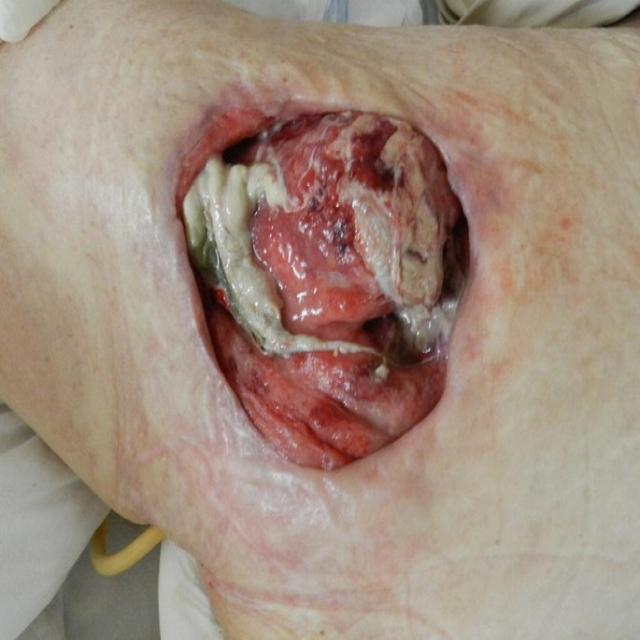stage-4: (179, 109, 471, 470)
